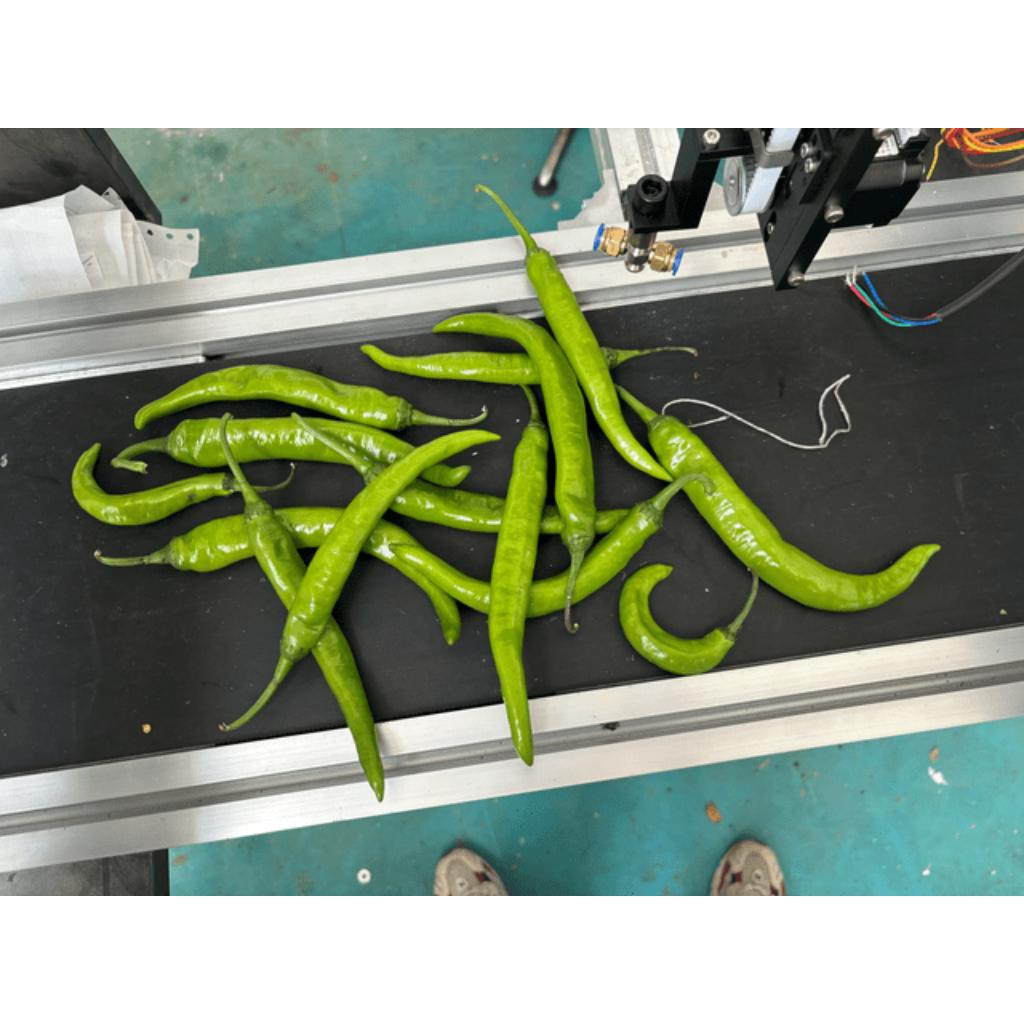chili: (644, 412, 944, 614), (278, 430, 509, 663), (162, 504, 463, 655), (244, 497, 388, 809), (426, 307, 600, 559), (524, 243, 678, 485), (388, 498, 663, 619), (489, 422, 555, 770), (165, 414, 473, 487), (361, 461, 633, 537), (132, 361, 419, 433), (70, 438, 239, 532), (612, 561, 737, 676), (353, 342, 622, 385)
